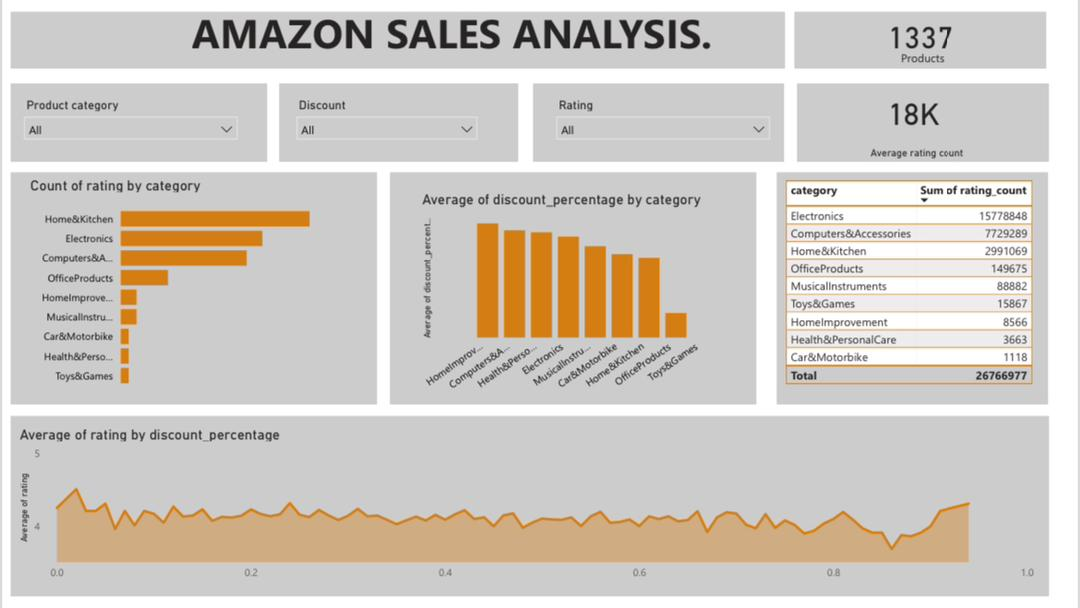

This screenshot's page, from the dashboard's own definition file:
{"tool":"powerbi","page":{"name":"Page 1","canvas":[1280,720],"ordinal":0},"visuals":[{"type":"shape","box":[9.5,14.3,921,68.4],"z":0},{"type":"textbox","box":[221.1,0,660.1,82.7],"z":1000},{"type":"shape","box":[9.5,205.2,435.8,276.8],"z":2000},{"type":"barChart","fields":{"Category":["Table1.category"],"Y":["Count(Table1.rating)"]},"box":[28.6,210,397.7,260.9],"z":3000},{"type":"shape","box":[9.5,494.7,1235.9,214.7],"z":4000},{"type":"areaChart","fields":{"Category":["Table1.discount_percentage"],"Y":["Avg(Table1.rating)"]},"box":[15.9,505.8,1218.4,192.5],"z":5000},{"type":"shape","box":[461.3,205.2,435.8,276.8],"z":6000},{"type":"shape","box":[9.5,98.6,305.4,93.8],"z":7000},{"type":"columnChart","fields":{"Y":["Avg(Table1.discount_percentage)"],"Category":["Table1.category"]},"box":[494.7,227.5,369,249.7],"z":8000},{"type":"slicer","fields":{"Values":["Table1.category"]},"box":[15.9,111.3,273.6,70],"z":9000},{"type":"shape","box":[329.3,98.6,284.7,93.8],"z":10000},{"type":"shape","box":[631.5,98.6,299,93.8],"z":11000},{"type":"slicer","fields":{"Values":["Table1.rating"]},"box":[649,111.3,273.6,70],"z":12000},{"type":"slicer","fields":{"Values":["Table1.discount_percentage"]},"box":[340.4,111.3,235.4,70],"z":13000},{"type":"shape","box":[944.8,98.6,300.6,93.8],"z":14000},{"type":"card","fields":{"Values":["Avg(Table1.rating_count)"]},"box":[995.7,98.6,176.6,66.8],"z":15000},{"type":"textbox","box":[1027.5,167,135.2,28.6],"z":16000},{"type":"shape","box":[921,205.2,324.5,276.8],"z":17000},{"type":"tableEx","fields":{"Values":["Table1.category","Sum(Table1.rating_count)"]},"box":[925.7,210,314.9,262.5],"z":18000},{"type":"shape","box":[941.6,14.3,300.6,68.4],"z":18500},{"type":"card","fields":{"Values":["Count(Table1.product_name)"]},"box":[1013.2,14.3,159.1,54.1],"z":19000},{"type":"textbox","box":[1064.1,54.1,135.2,28.6],"z":20000}]}

Visuals, with their boxes in screenshot pixels (x1, y1, x2, y2), scaled from the page's 1280x720 canvas onto the 1080x608 screenshot:
shape: 8 12 785 70
textbox: 187 0 744 70
shape: 8 173 376 407
barChart - Table1.category x Count(Table1.rating): 24 177 360 398
shape: 8 418 1051 599
areaChart - Table1.discount_percentage x Avg(Table1.rating): 13 427 1041 590
shape: 389 173 757 407
shape: 8 83 266 162
columnChart - Avg(Table1.discount_percentage) x Table1.category: 417 192 729 403
slicer - Table1.category: 13 94 244 153
shape: 278 83 518 162
shape: 533 83 785 162
slicer - Table1.rating: 548 94 778 153
slicer - Table1.discount_percentage: 287 94 486 153
shape: 797 83 1051 162
card - Avg(Table1.rating_count): 840 83 989 140
textbox: 867 141 981 165
shape: 777 173 1051 407
tableEx - Table1.category x Sum(Table1.rating_count): 781 177 1047 399
shape: 794 12 1048 70
card - Count(Table1.product_name): 855 12 989 58
textbox: 898 46 1012 70
